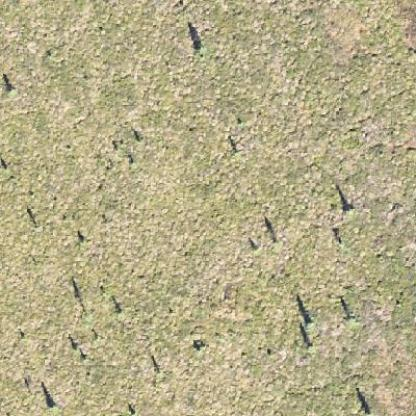tree-top: (2, 81, 18, 98), (194, 40, 210, 56), (340, 201, 356, 217), (302, 317, 315, 330)
